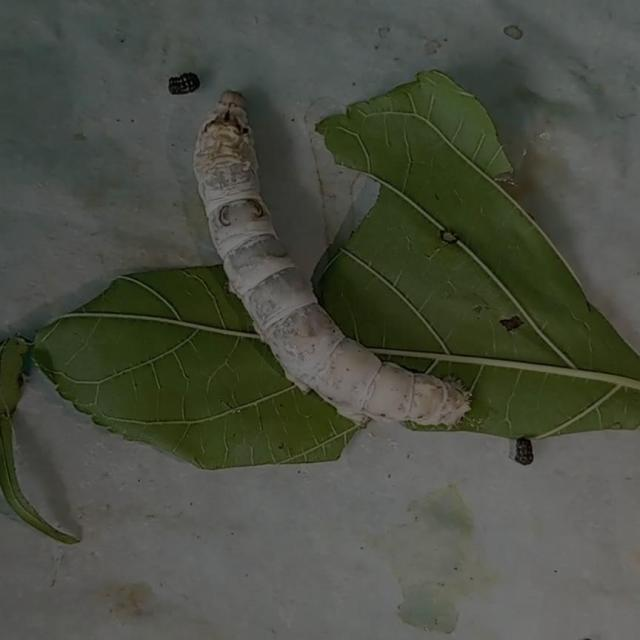Grasserie: (182, 87, 482, 444)
